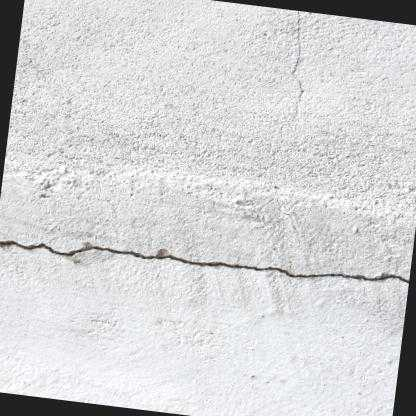crack: (0, 238, 408, 283), (291, 9, 306, 103)
